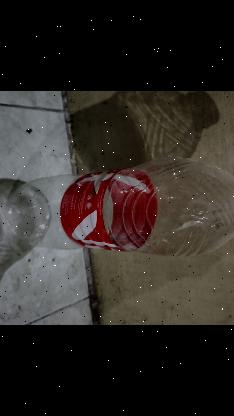Plastic Bottle: (20, 156, 234, 258)
